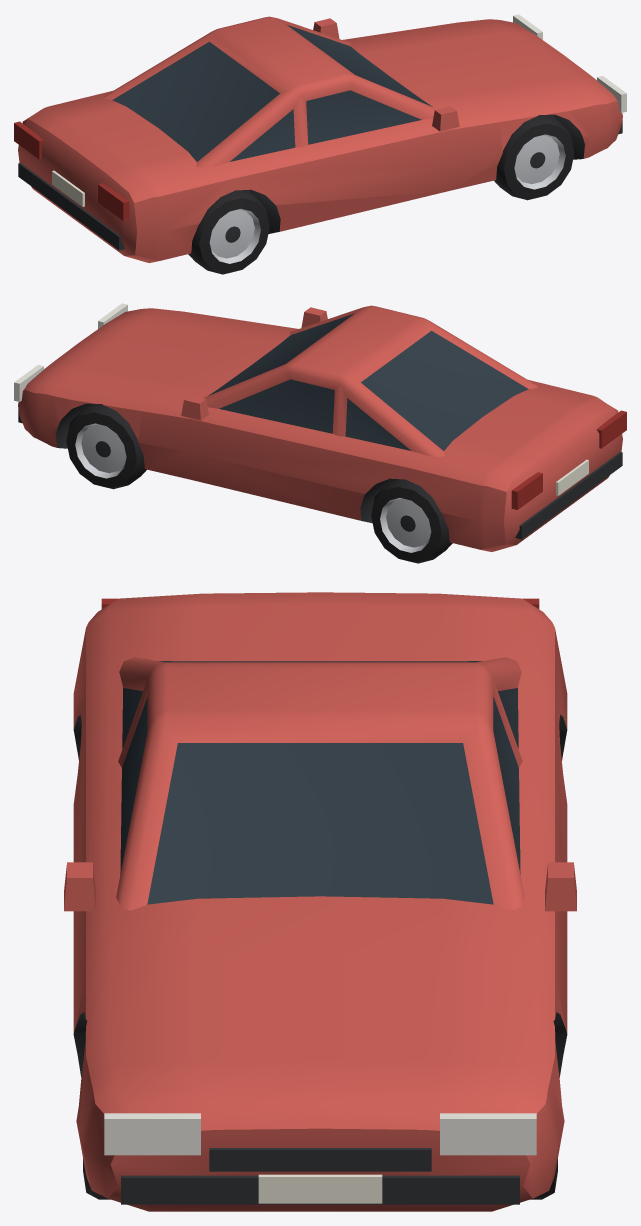
The model's file is coupe.glb.
3 renders of one model, top to bottom at view 1: azimuth 30°, elevation 25°; view 2: azimuth 150°, elevation 25°; view 3: azimuth 270°, elevation 25°, orthographic. The views are drawn at different scales.
Visible parts, largest first — view 1: coupe; view 2: coupe; view 3: coupe.
Boxes of the visible parts, bbox=[...] form: coupe: bbox=[14, 14, 626, 274]; coupe: bbox=[14, 303, 626, 563]; coupe: bbox=[64, 592, 576, 1211].
Size of the model in its own units: 4.36 by 1.27 by 1.91.
